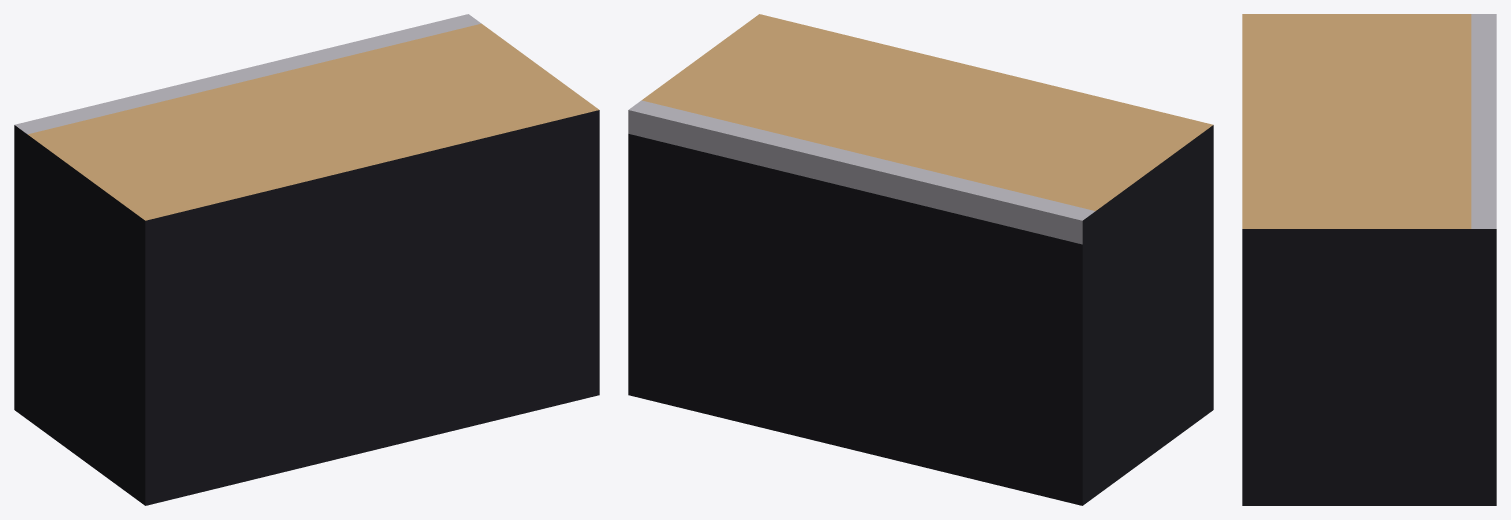
Rendered from ManPad_Half_6_OneGrind.fbx.
3 views of the same model, side by side, from view 1: azimuth 30°, elevation 25°; view 2: azimuth 150°, elevation 25°; view 3: azimuth 270°, elevation 25° (orthographic). The views are drawn at different scales.
Visible parts, largest first — view 1: ManPad_Half_6_OneGrind; view 2: ManPad_Half_6_OneGrind; view 3: ManPad_Half_6_OneGrind.
Part boxes in pixels (bbox=[...]): ManPad_Half_6_OneGrind: bbox=[14, 14, 599, 505]; ManPad_Half_6_OneGrind: bbox=[628, 14, 1213, 505]; ManPad_Half_6_OneGrind: bbox=[1242, 14, 1496, 505].
Bounding box in the file's own units: 10 × 6 × 5.
